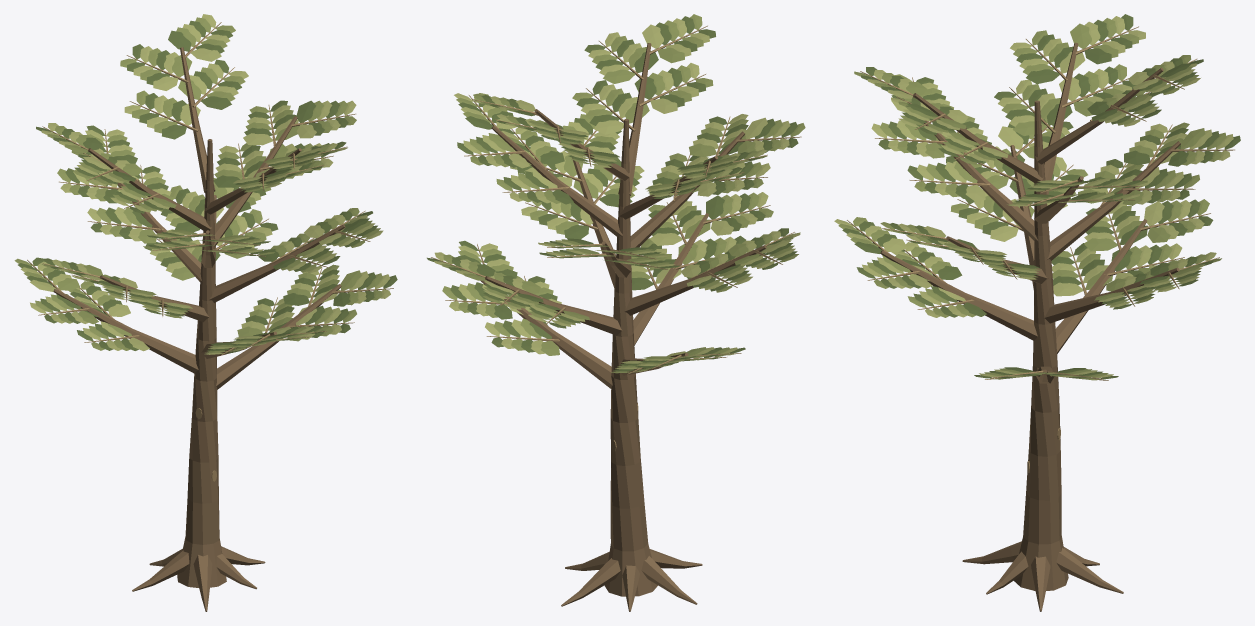
Rendered from archaeopteris.glb.
3 views of the same model, side by side, from view 1: azimuth 30°, elevation 25°; view 2: azimuth 150°, elevation 25°; view 3: azimuth 270°, elevation 25° (orthographic). The views are drawn at different scales.
Parts seen in each view (by area): view 1: woody-tree-flattened-paddle-leafy-sprays; view 2: woody-tree-flattened-paddle-leafy-sprays; view 3: woody-tree-flattened-paddle-leafy-sprays.
Boxes of the visible parts, <box> form: woody-tree-flattened-paddle-leafy-sprays: <box>14,14,397,611</box>; woody-tree-flattened-paddle-leafy-sprays: <box>427,14,805,611</box>; woody-tree-flattened-paddle-leafy-sprays: <box>834,14,1240,611</box>.
Size of the model in its own units: 2.71 by 3.8 by 2.58.
